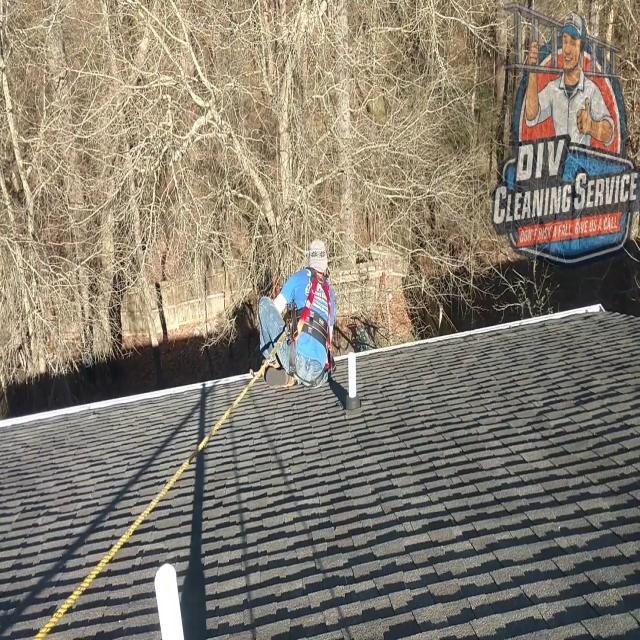belt: (284, 264, 335, 386)
